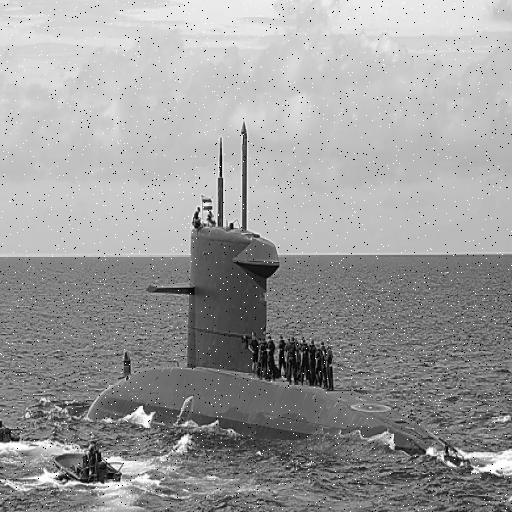submarine: (88, 111, 473, 473)
